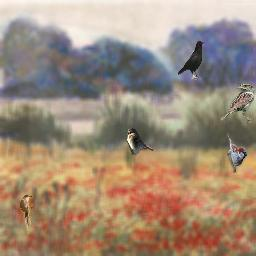Crow: (177, 40, 204, 80)
Cuckoo: (20, 194, 33, 234)
Sparrow: (220, 83, 255, 123), (227, 133, 247, 173), (127, 128, 154, 155)
